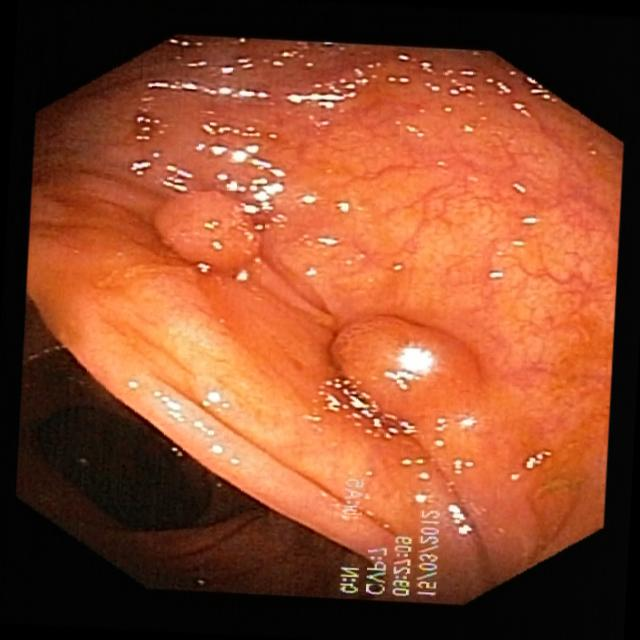Polyps: (324, 307, 474, 432), (149, 177, 269, 290)
